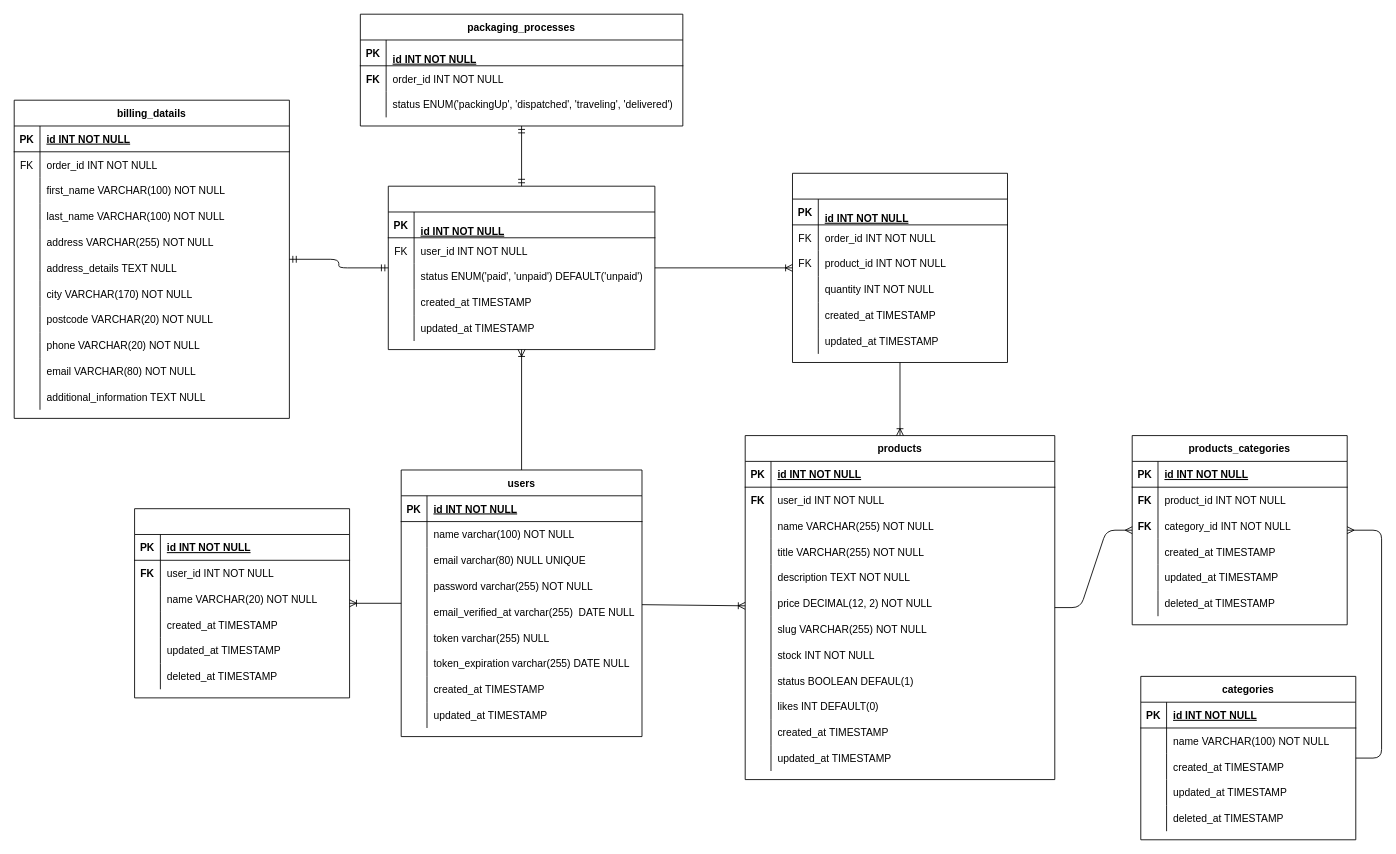
Some shapes in this 1396 by 854 pixel diagram are drawn without their labels. The shapes that lost their labels are listed below. From the top down, each one's box as (x1, y1, x2, y2) in pixels, then its label:
(387, 185, 655, 350): orders
(792, 172, 1007, 362): orders_products
(134, 508, 350, 698): roles
